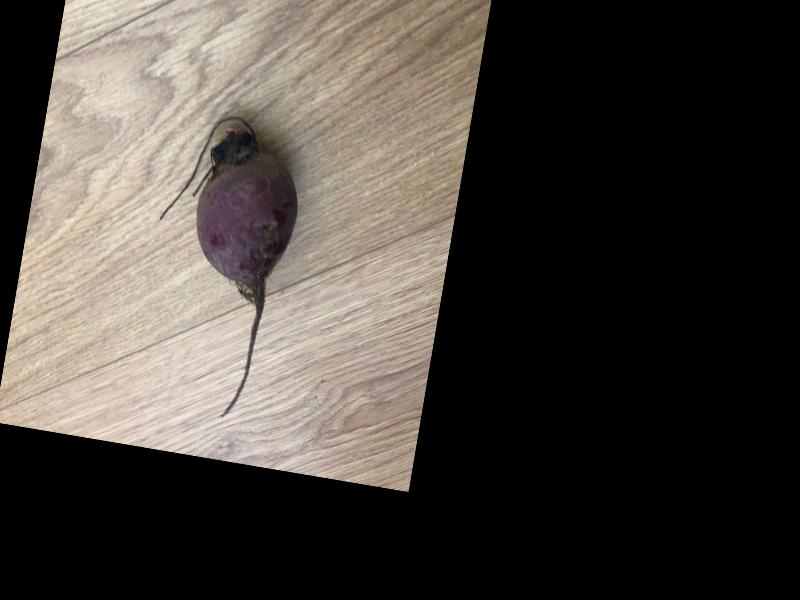Beet: (129, 107, 312, 425)
